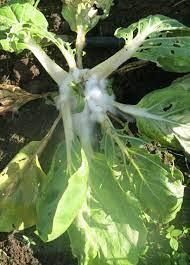Bok-Choy-Diseased: (99, 125, 186, 214), (115, 14, 190, 68), (3, 140, 47, 230), (125, 88, 190, 148), (61, 0, 112, 28)
